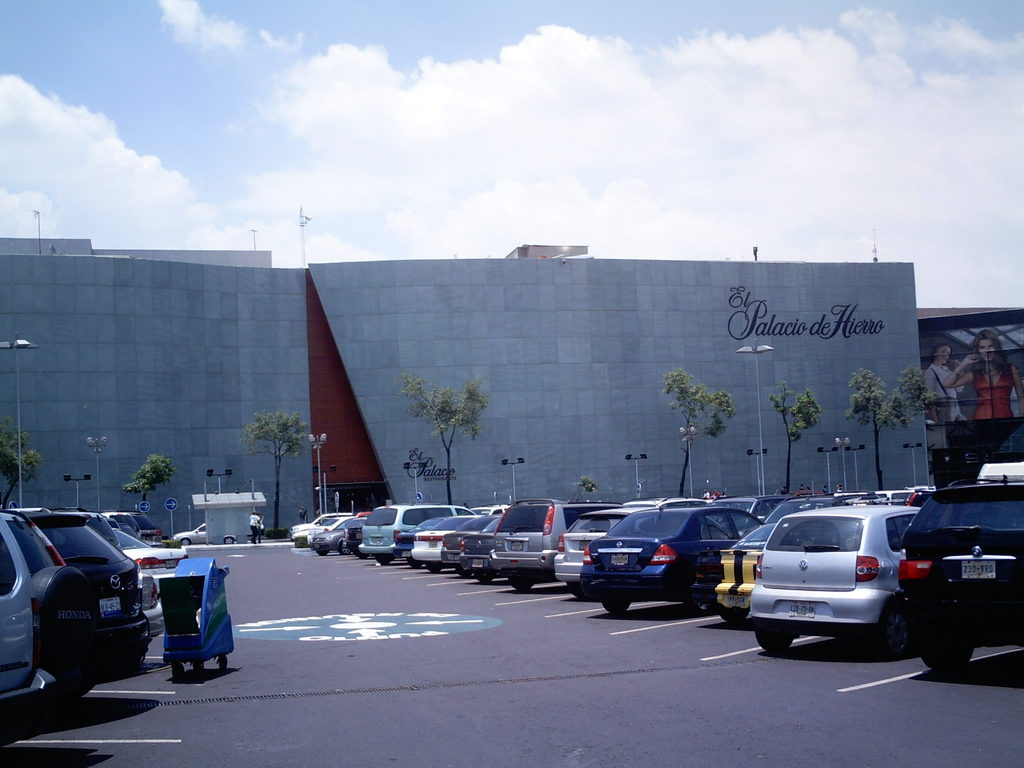mobil: (892, 478, 1024, 684), (758, 506, 921, 663), (577, 501, 769, 621)
